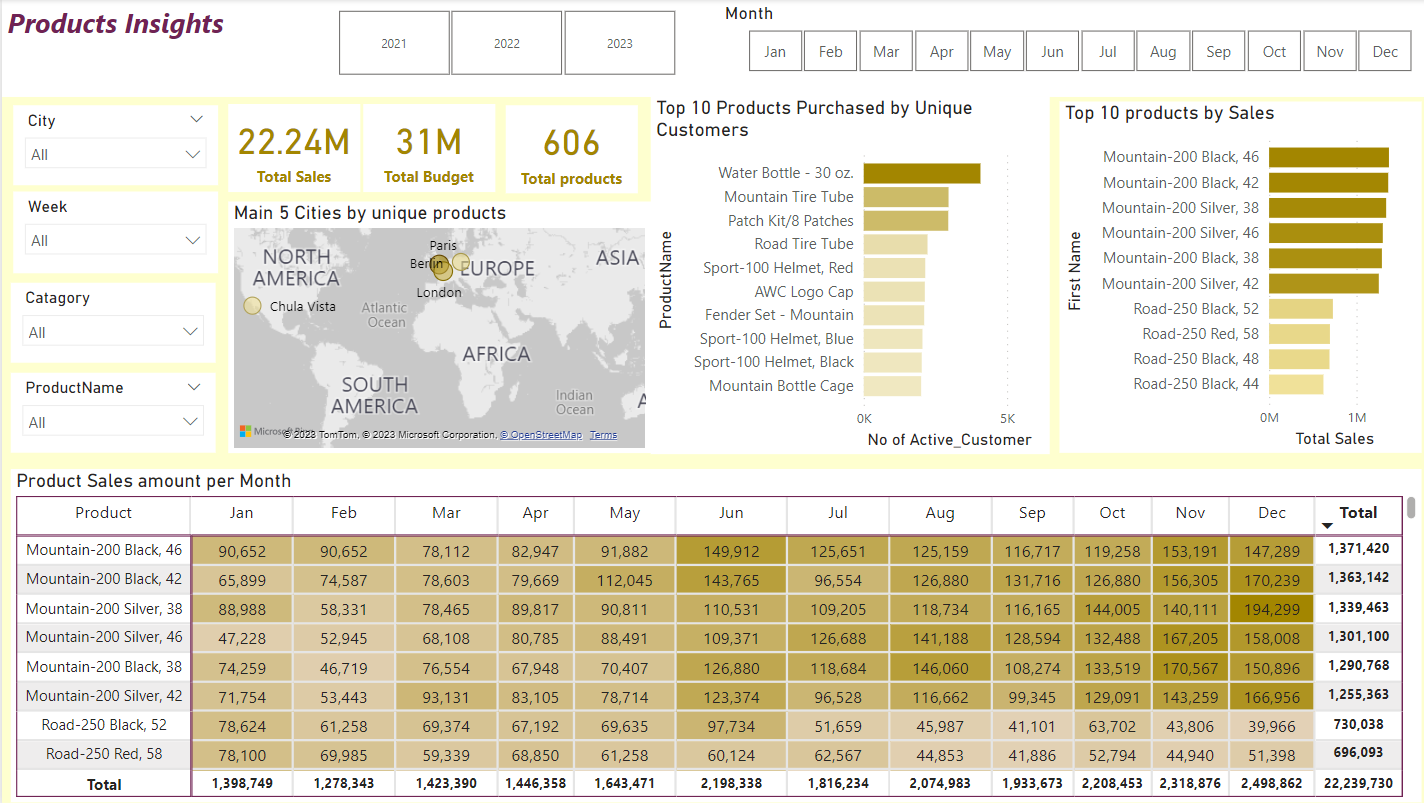

Layout of this report page (visuals, bound fields, positions):
{"tool":"powerbi","page":{"name":"Products","canvas":[1280,720],"ordinal":2},"visuals":[{"type":"textbox","box":[0,0,1279.6,86.8],"z":0},{"type":"slicer","fields":{"Values":["Dim_Customer.City"]},"box":[9.6,94.6,182.3,71.3],"z":1000},{"type":"slicer","fields":{"Values":["Dim_Calender.week"]},"box":[9.6,171.4,182.3,72.7],"z":2000},{"type":"slicer","fields":{"Values":["Dim_Product.Catagory"]},"box":[8.2,252.3,182.3,71.3],"z":3000},{"type":"slicer","fields":{"Values":["Dim_Product.ProductName"]},"box":[8.2,333.2,182.3,71.3],"z":4000},{"type":"slicer","title":"Month","fields":{"Values":["Dim_Calender.Month"]},"box":[639.2,3.6,640.4,67.5],"z":5000},{"type":"slicer","title":"Year","fields":{"Values":["Dim_Calender.year"]},"box":[273.8,3.6,349.7,71.2],"z":6000},{"type":"barChart","title":"Top 10 products by Sales","fields":{"Y":["Necessary Measures.Total Sales"],"Category":["Dim_Product.ProductName"]},"box":[941.9,91.8,322.5,313.1],"z":8000},{"type":"card","fields":{"Values":["Necessary Measures.Total Sales"]},"box":[201.1,93.1,117.4,78.3],"z":9000},{"type":"card","fields":{"Values":["Necessary Measures.Total Budget"]},"box":[321.1,93.1,117.4,78.3],"z":10000},{"type":"pivotTable","title":"Product Sales amount per Month","fields":{"Columns":["Dim_Calender.Month"],"Values":["Necessary Measures.Total Sales"],"Rows":["Dim_Product.ProductName"]},"box":[8.1,418.3,1256.3,296.9],"z":11000},{"type":"barChart","title":"Top 10 Products Purchased by Unique Customers","fields":{"Y":["Necessary Measures.No of Active_Customer"],"Category":["Dim_Product.ProductName"]},"box":[577.5,86.4,354.9,318.5],"z":12000},{"type":"map","title":"Main 5 Cities by unique products","fields":{"Category":["Dim_Customer.City"],"Size":["Necessary Measures.No of Sold_PDs"]},"box":[201.1,180.8,376.5,224],"z":12001},{"type":"card","fields":{"Values":["Necessary Measures.Total products"]},"box":[448,94.5,117.4,78.3],"z":12002}]}

Visuals, with their boxes in screenshot pixels (x1, y1, x2, y2), scaled from the page's 1280x720 canvas onto the 1424x803 screenshot:
textbox: bbox=[0, 0, 1423, 97]
slicer - Dim_Customer.City: bbox=[11, 106, 213, 185]
slicer - Dim_Calender.week: bbox=[11, 191, 213, 272]
slicer - Dim_Product.Catagory: bbox=[9, 281, 212, 361]
slicer - Dim_Product.ProductName: bbox=[9, 372, 212, 451]
"Month" slicer: bbox=[711, 4, 1423, 79]
"Year" slicer: bbox=[305, 4, 694, 83]
"Top 10 products by Sales" barChart: bbox=[1048, 102, 1407, 452]
card - Necessary Measures.Total Sales: bbox=[224, 104, 354, 191]
card - Necessary Measures.Total Budget: bbox=[357, 104, 488, 191]
"Product Sales amount per Month" pivotTable: bbox=[9, 467, 1407, 798]
"Top 10 Products Purchased by Unique Customers" barChart: bbox=[642, 96, 1037, 452]
"Main 5 Cities by unique products" map: bbox=[224, 202, 643, 451]
card - Necessary Measures.Total products: bbox=[498, 105, 629, 193]
